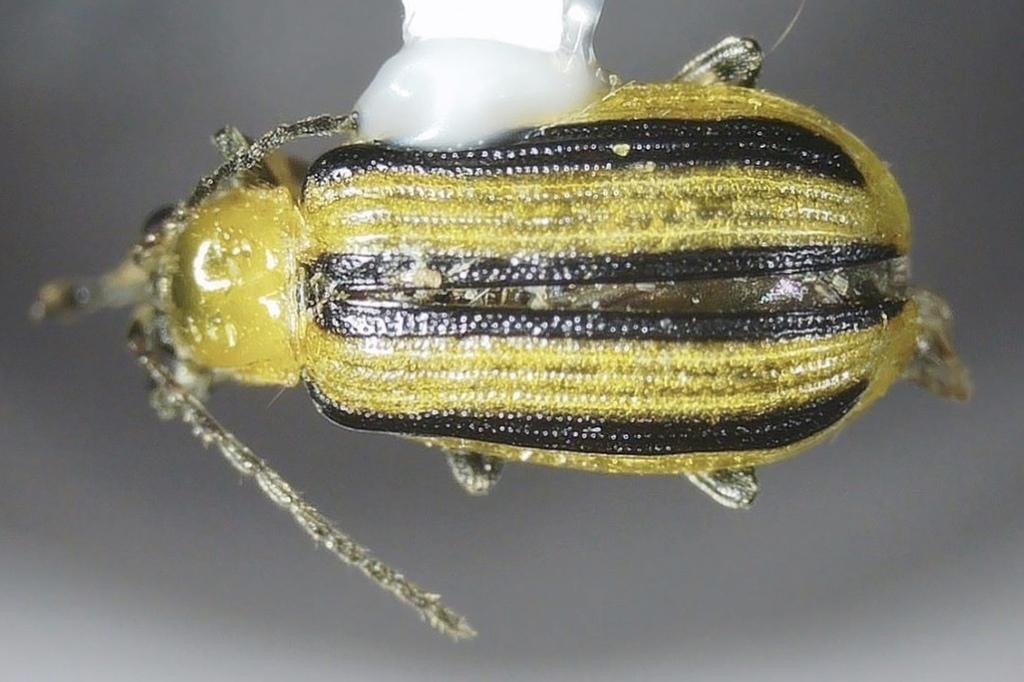potato_beetle: (6, 0, 1024, 682)
